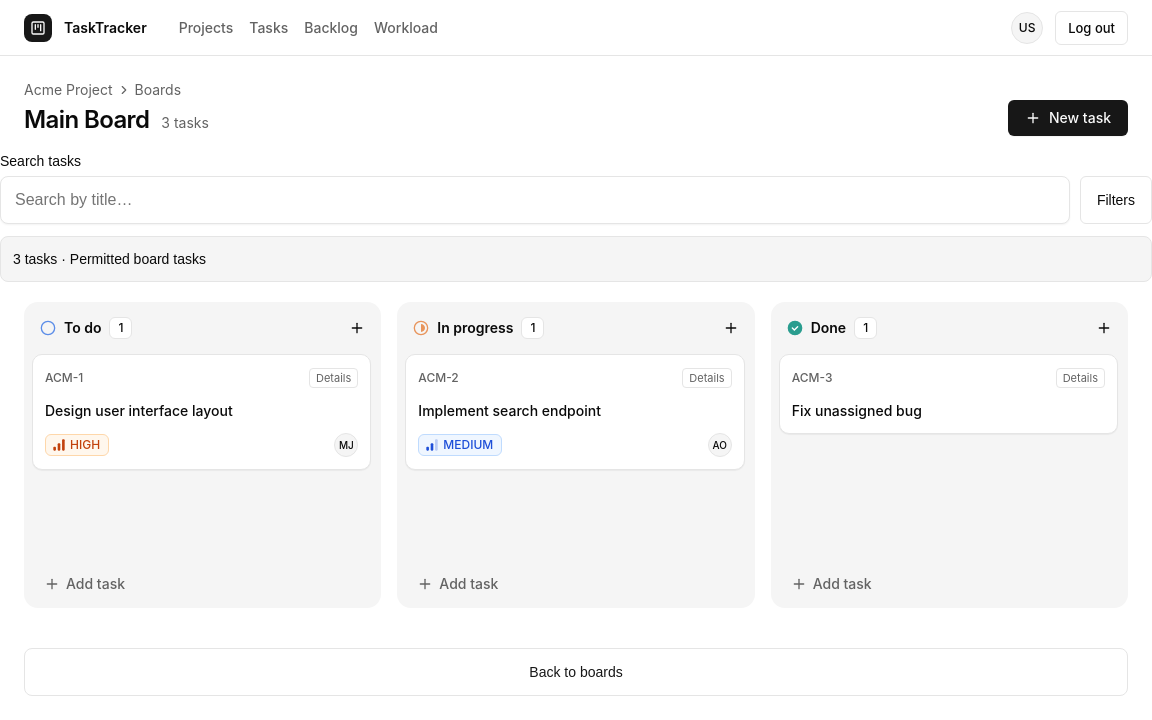
Scenario: [US-36] Search and filter tasks on board acceptance tests › State 05: renders active filter chips, summary, allows chip removal and Clear all
The image size is (1152, 720).
expect the heading "Main Board" is shown: met, box top-left (24, 104), bottom-right (149, 136)
# Apply status filter
Click the button "Filters".
click(1116, 200)  # box top-left (1080, 176), bottom-right (1151, 224)
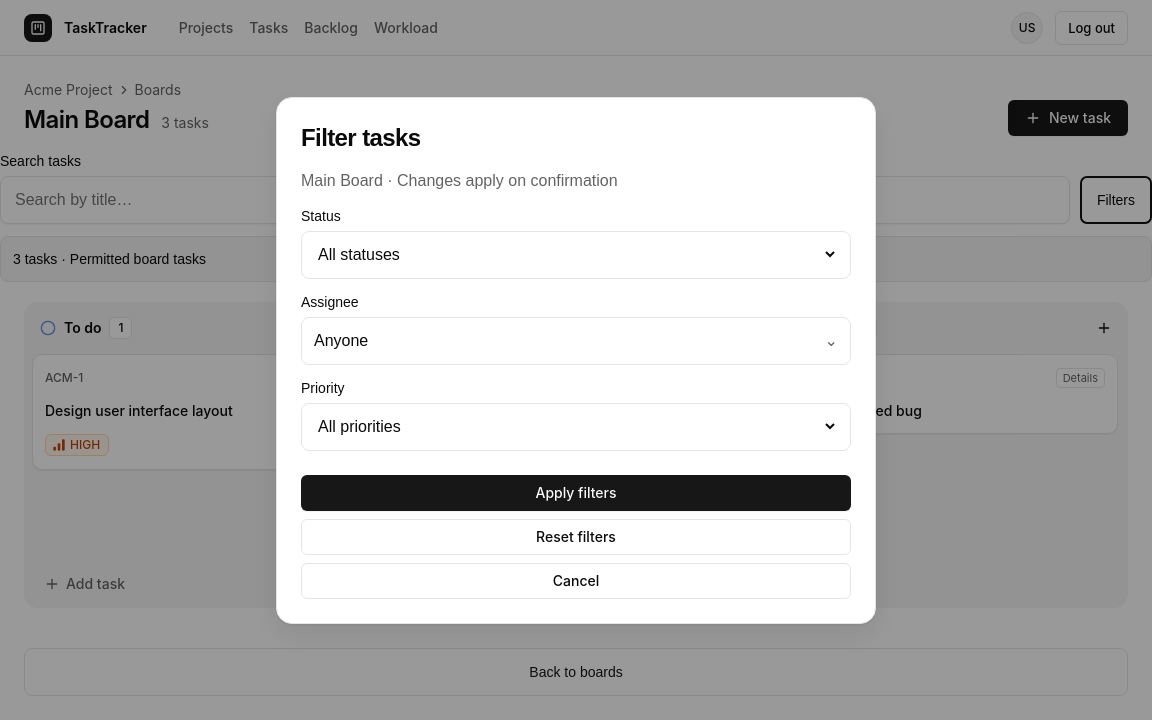
Select "To do" in the dropdown with test id "filter-status-select" at (576, 254), box top-left (314, 245), bottom-right (838, 264)
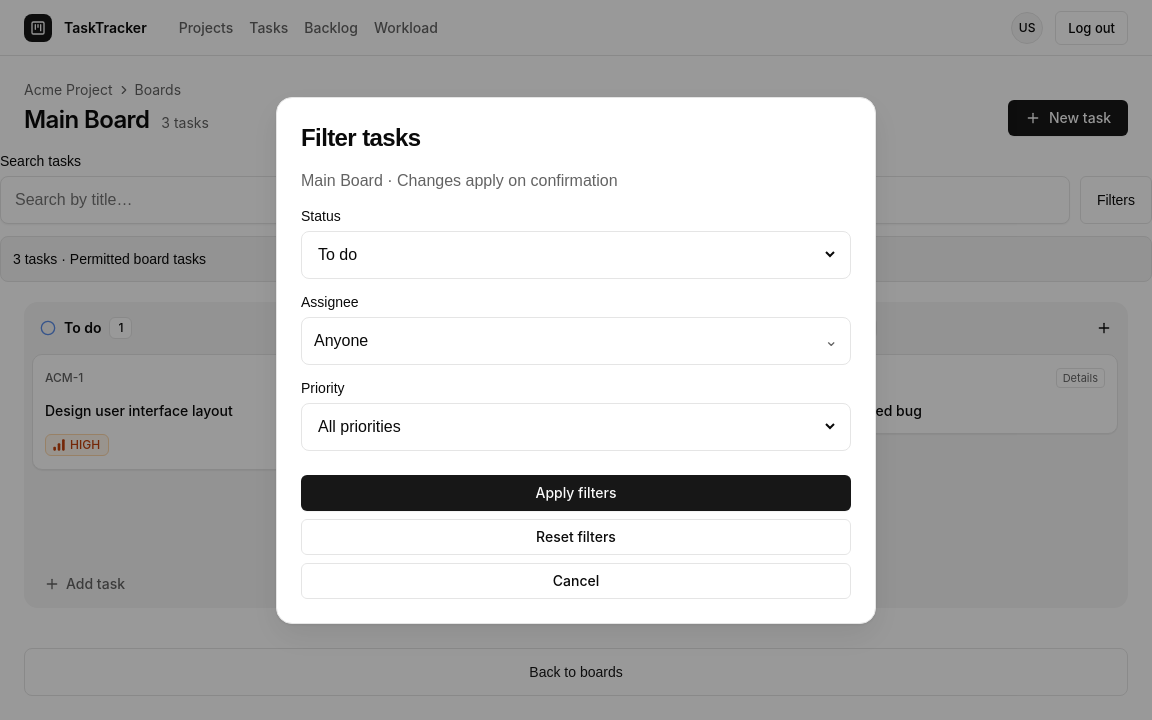
Click the button with test id "apply-filters-btn".
click(576, 492)  # box top-left (301, 474), bottom-right (851, 510)
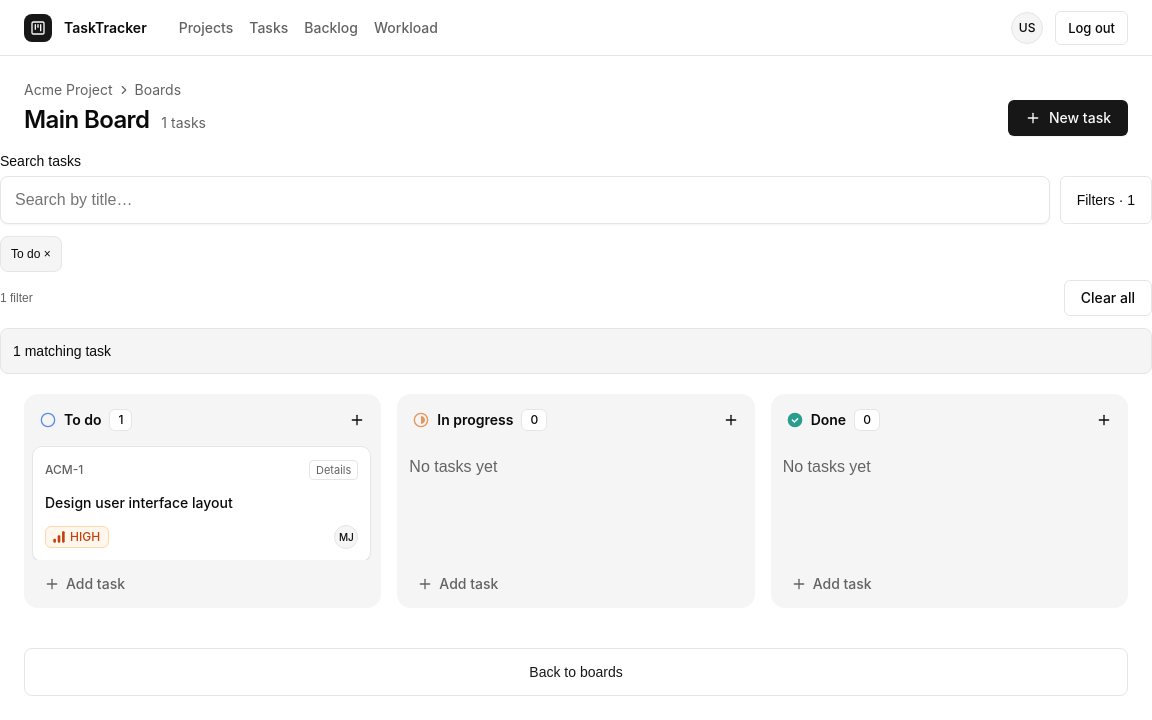
expect the button with test id "status-filter-chip" is shown: met
expect the text "To do ×" is shown: met, box top-left (11, 245), bottom-right (51, 263)
expect the text "1 filter" is shown: met, box top-left (0, 289), bottom-right (33, 307)
# Remove status chip
Click the button with test id "status-filter-chip".
click(31, 254)  # box top-left (0, 236), bottom-right (62, 272)
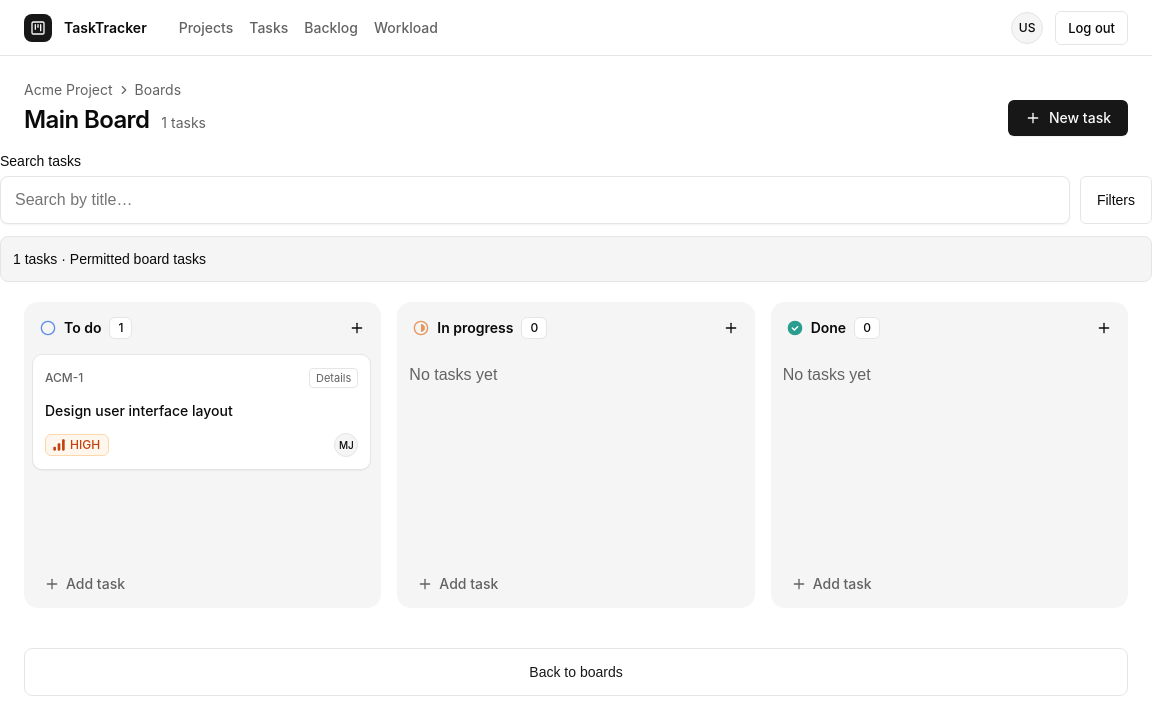
expect the button with test id "status-filter-chip" is gone: met
